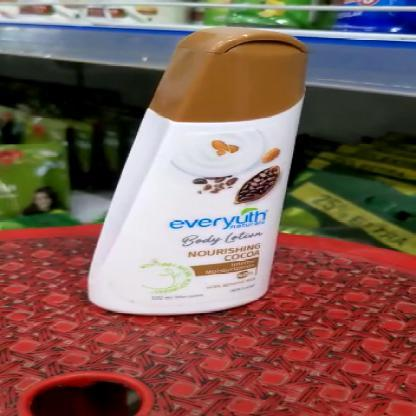Everyuth Naturals Body Lotion Nourishing Cocoa 200ml: (81, 23, 308, 312)
